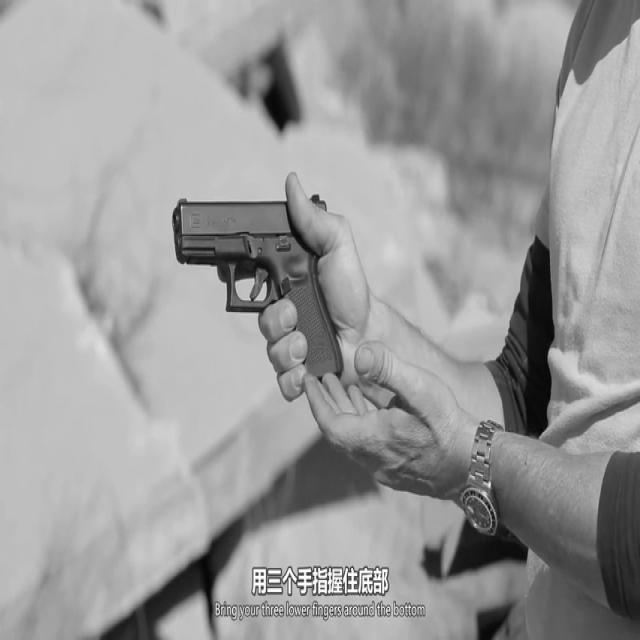Hand-Gun: (154, 116, 428, 490)
